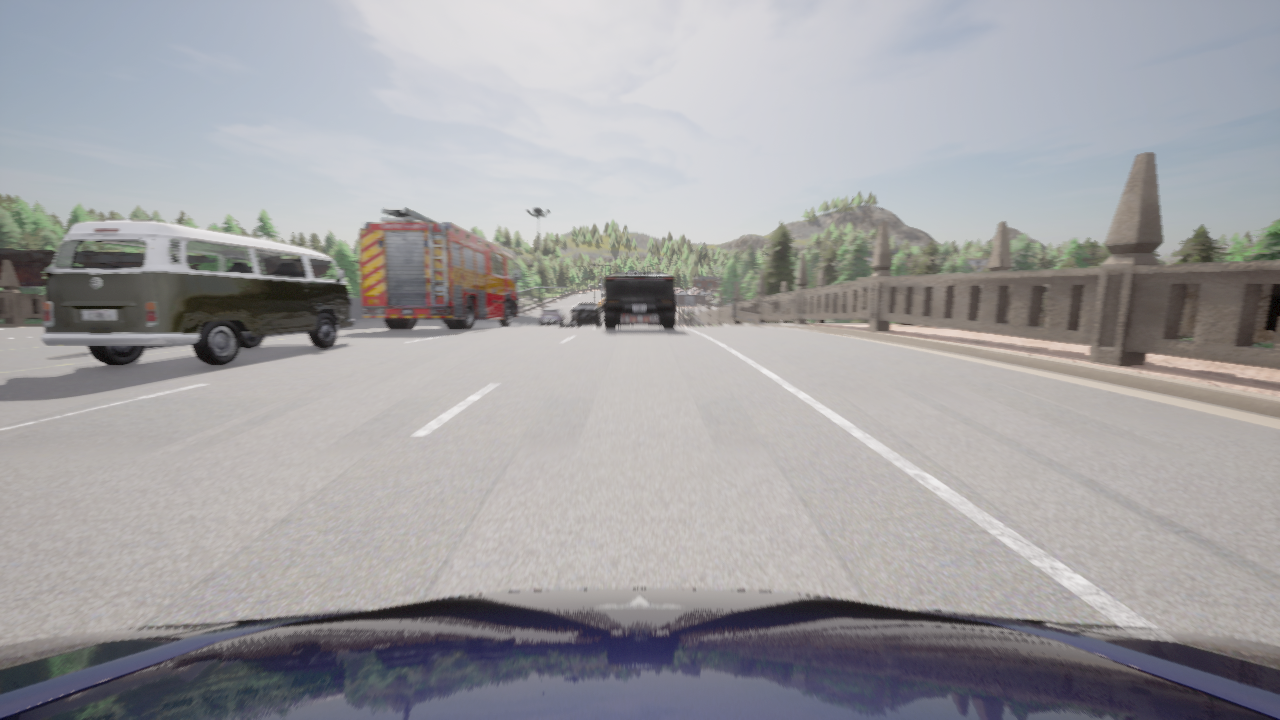cyclist: (0, 588, 1279, 719), (41, 220, 353, 365), (359, 207, 520, 329), (603, 272, 676, 329), (570, 303, 603, 326), (539, 307, 569, 326), (621, 315, 658, 326), (631, 323, 648, 326)
